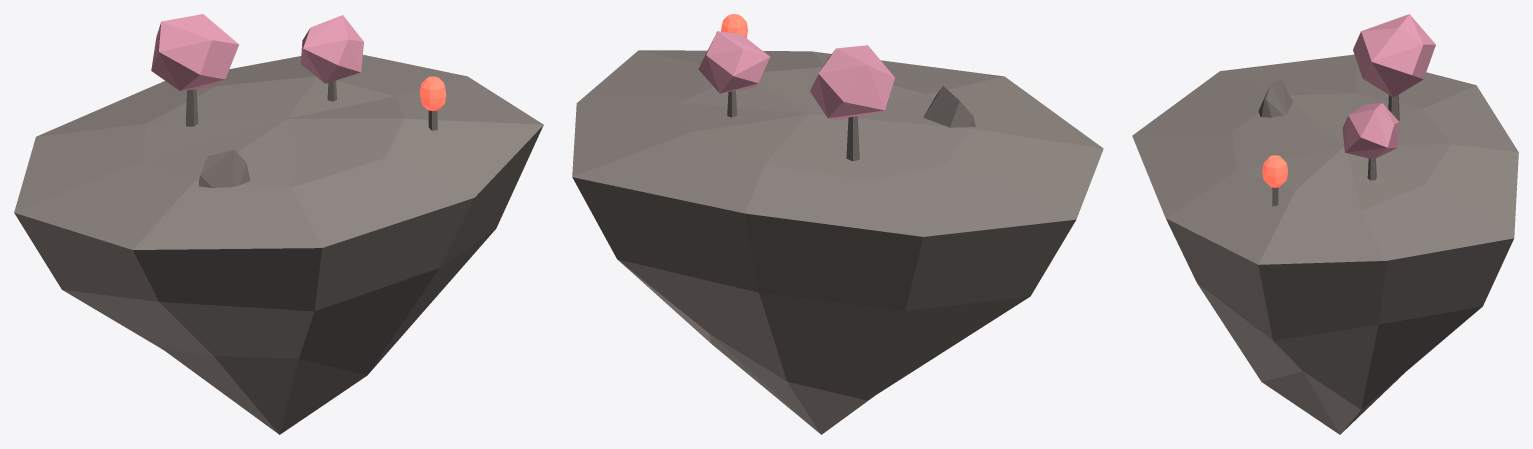
The model's file is decor_rockIsle.glb.
3 views of the same model, side by side, from view 1: azimuth 30°, elevation 25°; view 2: azimuth 150°, elevation 25°; view 3: azimuth 270°, elevation 25° (orthographic). The views are drawn at different scales.
Visible parts, largest first — view 1: decor_rockIsle_mesh; view 2: decor_rockIsle_mesh; view 3: decor_rockIsle_mesh.
Part boxes in pixels (x1,y1,x2,y2): decor_rockIsle_mesh: (14, 14, 543, 434); decor_rockIsle_mesh: (572, 14, 1103, 434); decor_rockIsle_mesh: (1132, 14, 1518, 434).
Size of the model in its own units: 0.9629 by 0.7886 by 0.7159.
